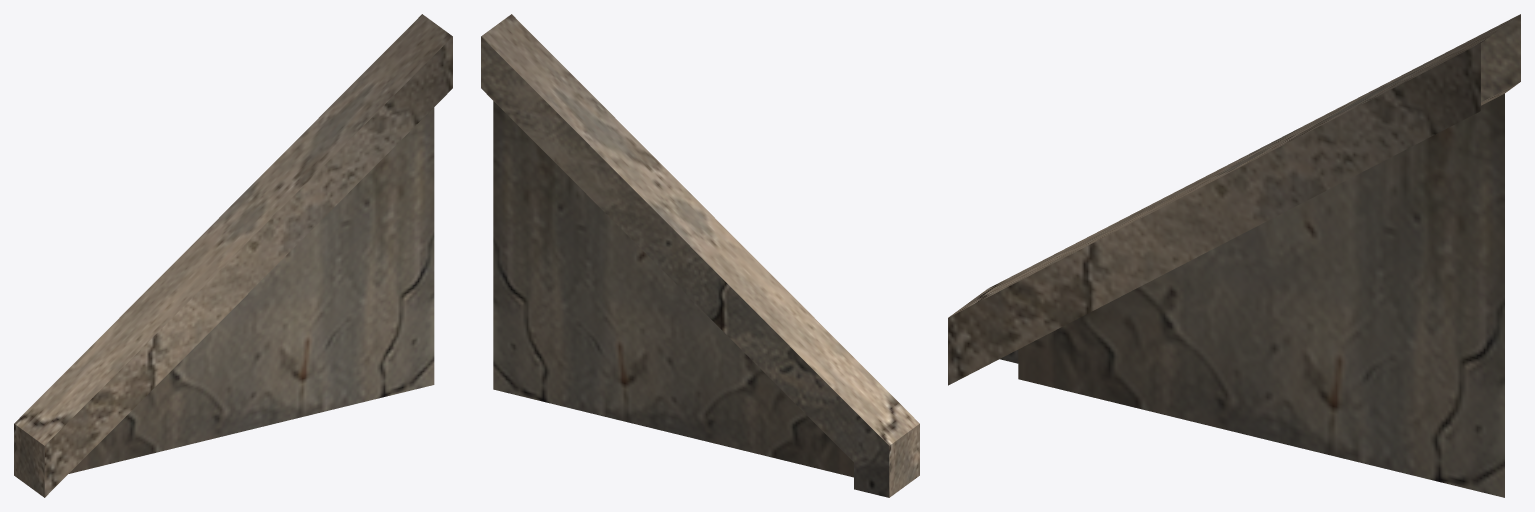
The model's file is roof_concrete_1.fbx.
The picture shows the model from 3 angles, left to right: view 1: azimuth 30°, elevation 25°; view 2: azimuth 150°, elevation 25°; view 3: azimuth 330°, elevation 25°; orthographic projection. The views are drawn at different scales.
Visible parts, largest first — view 1: roof_concrete_1; view 2: roof_concrete_1; view 3: roof_concrete_1.
Boxes of the visible parts, x1,y1,x2,y2 form: roof_concrete_1: (14, 14, 452, 497); roof_concrete_1: (481, 14, 919, 497); roof_concrete_1: (948, 14, 1520, 497).
Size of the model in its own units: 4.49 by 3.81 by 0.5832.
